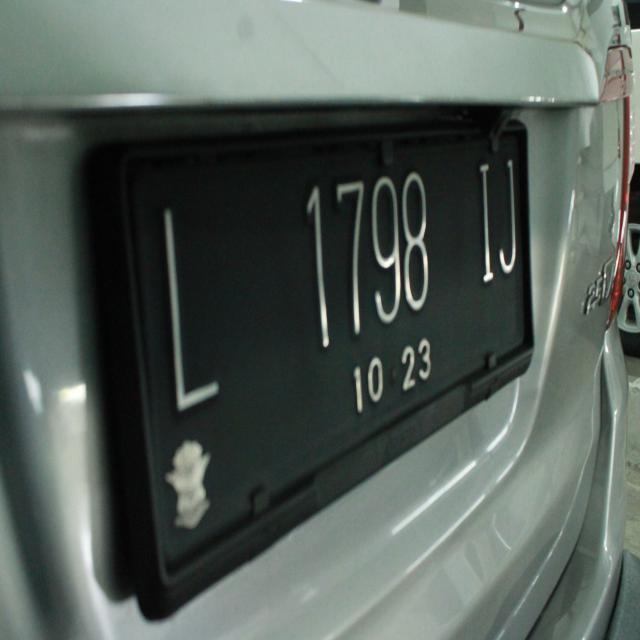1: (297, 178, 336, 360)
7: (328, 166, 371, 346)
8: (398, 153, 434, 324)
9: (364, 159, 406, 328)
I: (467, 154, 503, 292)
J: (488, 146, 528, 294)
L: (152, 190, 232, 416)
